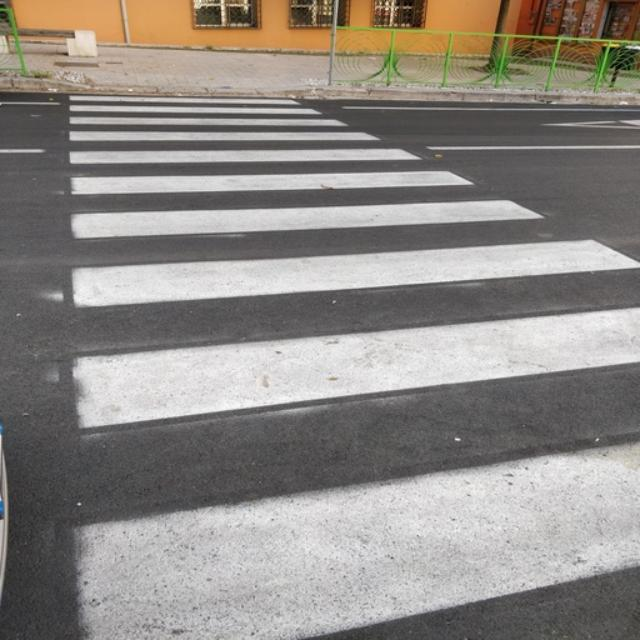sidewalk: (64, 93, 640, 640)
